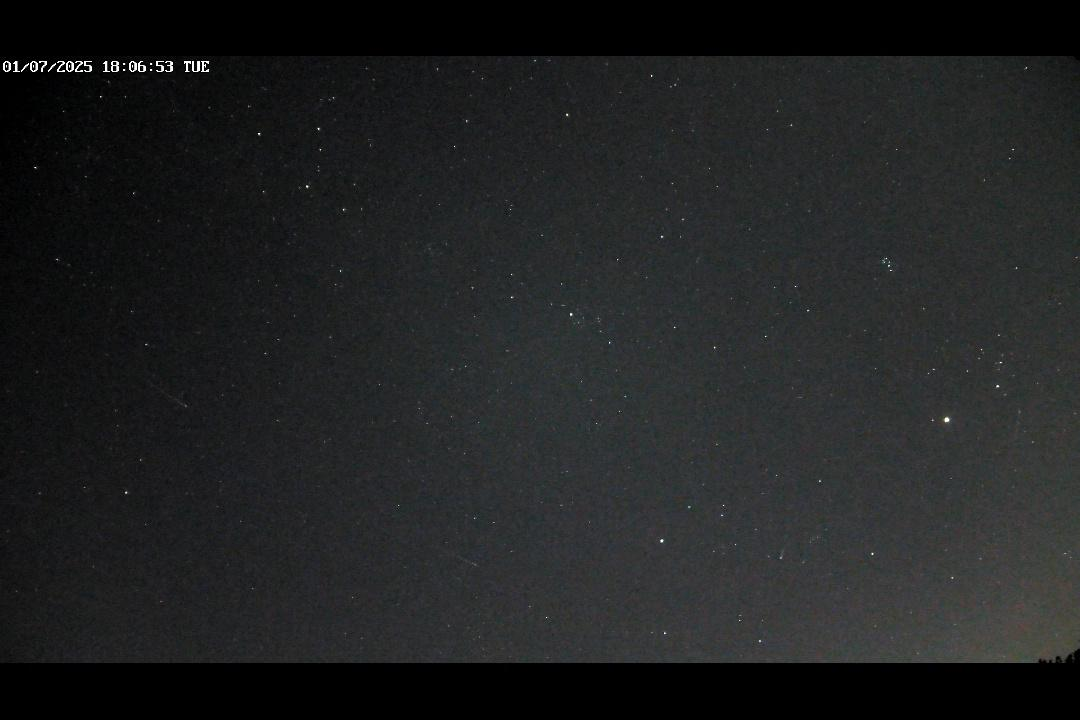Plane: (159, 388, 195, 411), (446, 551, 484, 570), (776, 536, 790, 562)
